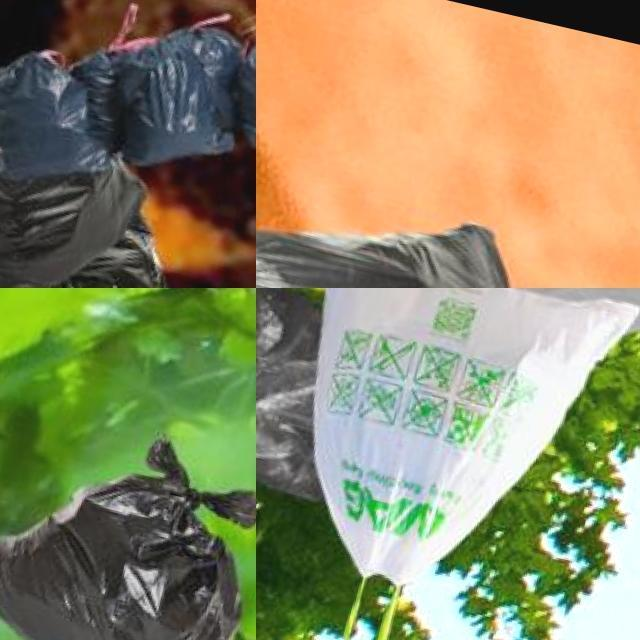waste: (256, 288, 640, 621), (0, 402, 256, 640), (0, 21, 186, 288), (70, 0, 256, 179), (256, 168, 533, 288), (256, 288, 343, 497), (216, 3, 256, 170)
